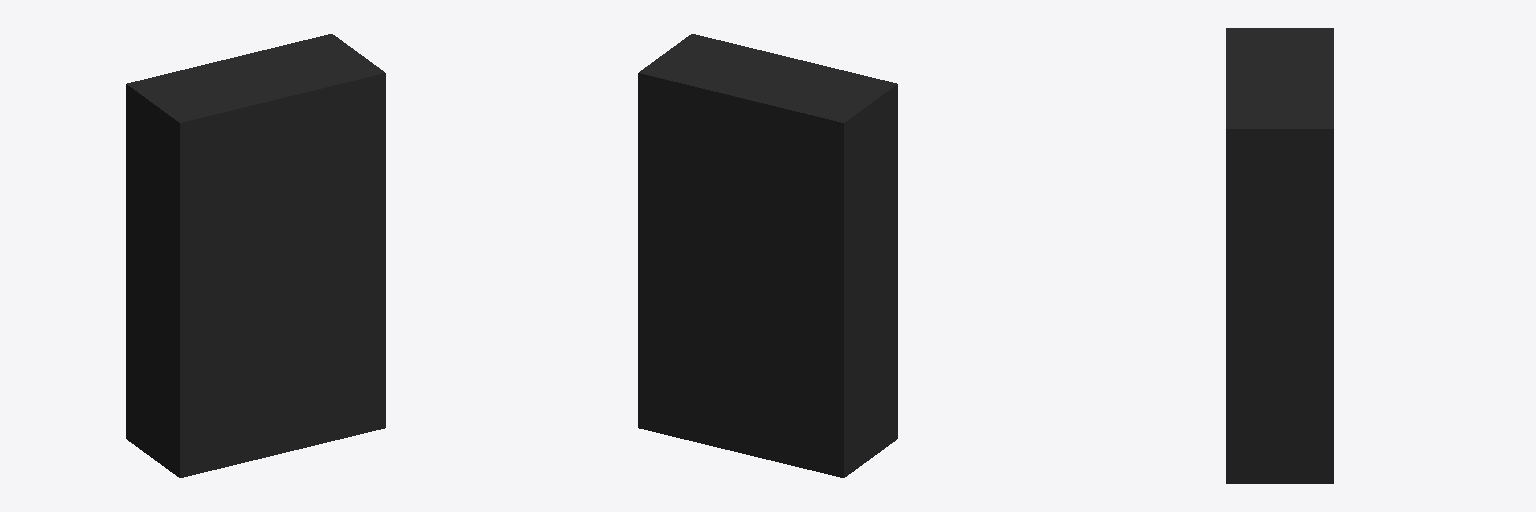
File: foundry_Detail2_Scaled.obj
3 renders of one model, left to right at view 1: azimuth 30°, elevation 25°; view 2: azimuth 150°, elevation 25°; view 3: azimuth 270°, elevation 25°, orthographic.
Visible parts, largest first — view 1: Map-000.012; view 2: Map-000.012; view 3: Map-000.012.
Boxes of the visible parts, box(x1,y1,x2,y2) form: Map-000.012: box(126, 34, 385, 477); Map-000.012: box(638, 34, 897, 477); Map-000.012: box(1226, 28, 1333, 483).
Size of the model in its own units: 30.95 by 51.02 by 14.